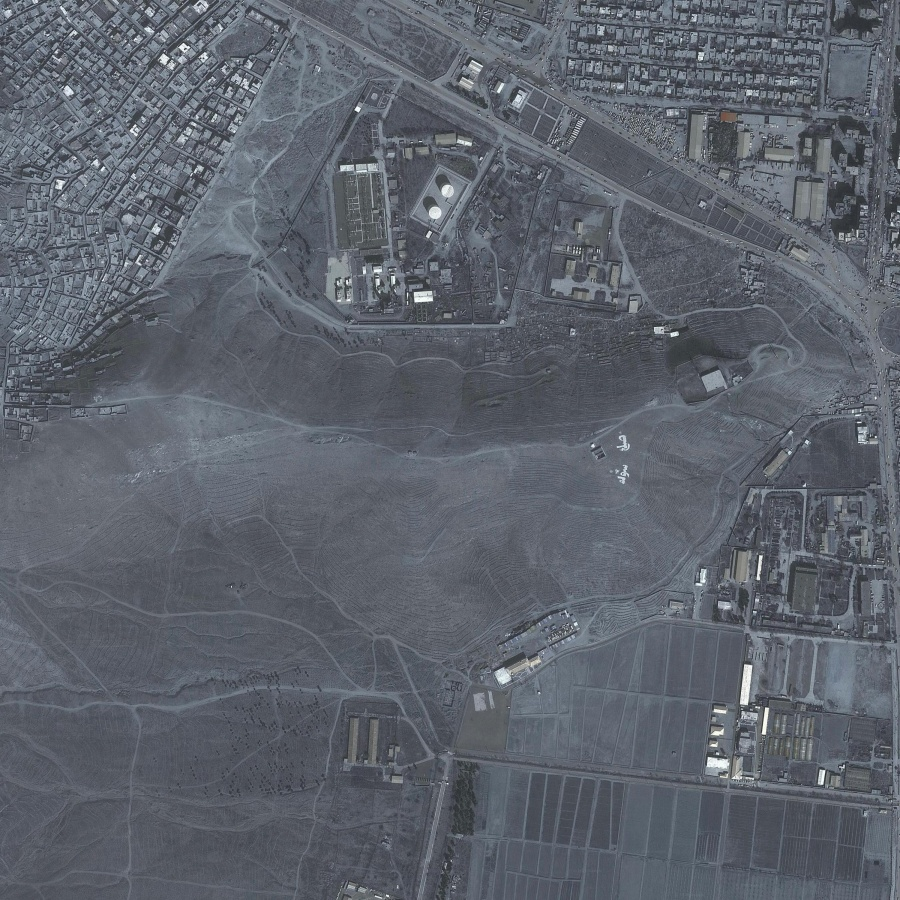PowerPlant: (335, 126, 478, 317)
